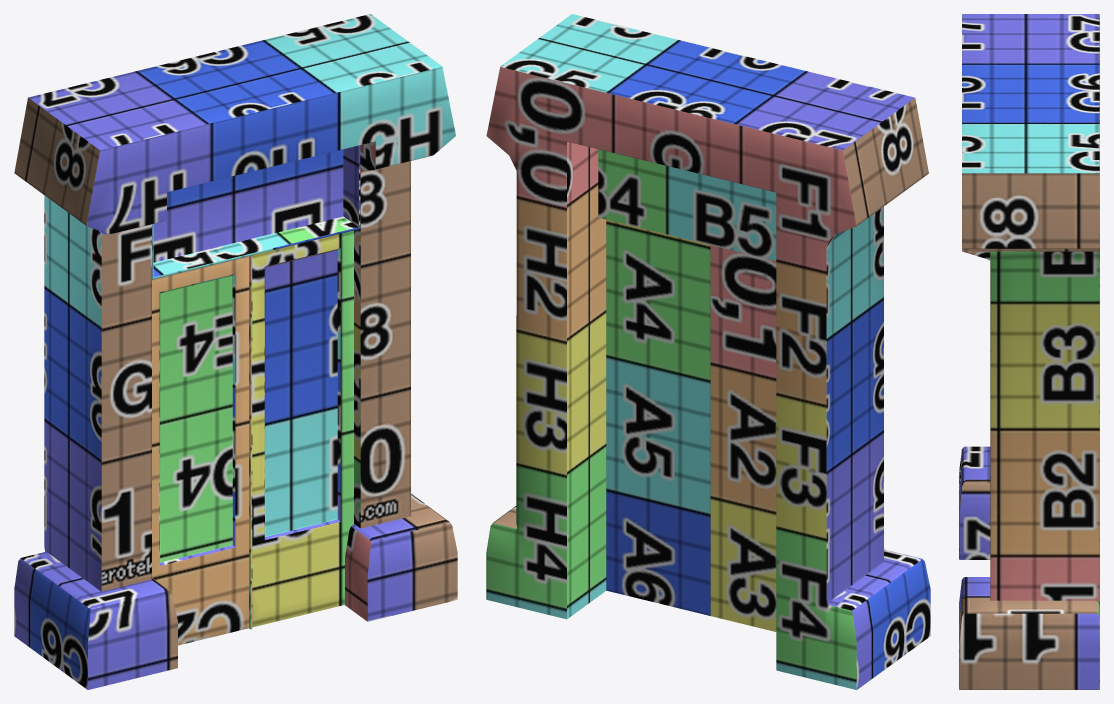
Rendered from DOOR_low.FBX.
3 views of the same model, side by side, from view 1: azimuth 30°, elevation 25°; view 2: azimuth 150°, elevation 25°; view 3: azimuth 270°, elevation 25° (orthographic). The views are drawn at different scales.
Parts seen in each view (by area): view 1: Box066; view 2: Box066; view 3: Box066.
Boxes of the visible parts, x1,y1,x2,y2 form: Box066: (14,14,457,689); Box066: (486,14,930,689); Box066: (959,14,1099,689).
Size of the model in its own units: 150 by 208 by 52.07.
Materials: 1 (1 with a texture image).
